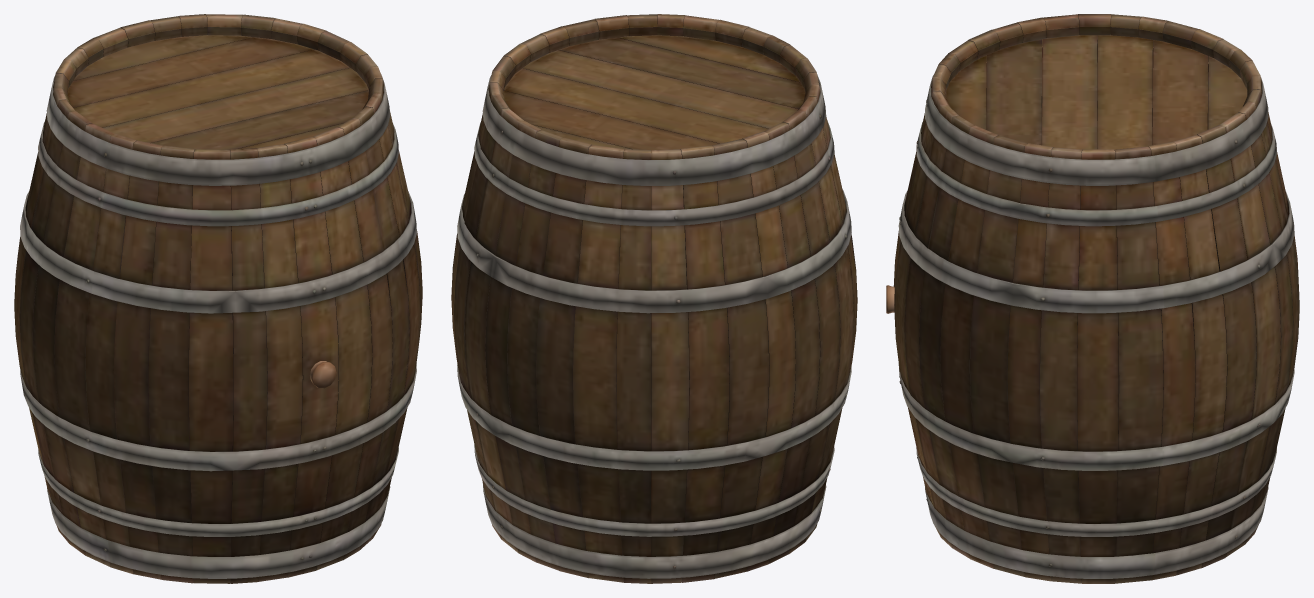
File: wine_barrel_01.glb
3 views of the same model, side by side, from view 1: azimuth 30°, elevation 25°; view 2: azimuth 150°, elevation 25°; view 3: azimuth 270°, elevation 25° (orthographic).
Visible parts, largest first — view 1: wine_barrel_01_Lid; view 2: wine_barrel_01_Lid; view 3: wine_barrel_01_Lid.
Part boxes in pixels (box(x1,y1,x2,y2)): wine_barrel_01_Lid: box(14, 14, 422, 583); wine_barrel_01_Lid: box(451, 14, 857, 583); wine_barrel_01_Lid: box(886, 14, 1299, 583).
Bounding box in the file's own units: 0.7419 × 0.8695 × 0.7554.
Materials: 1 (1 with a texture image).
